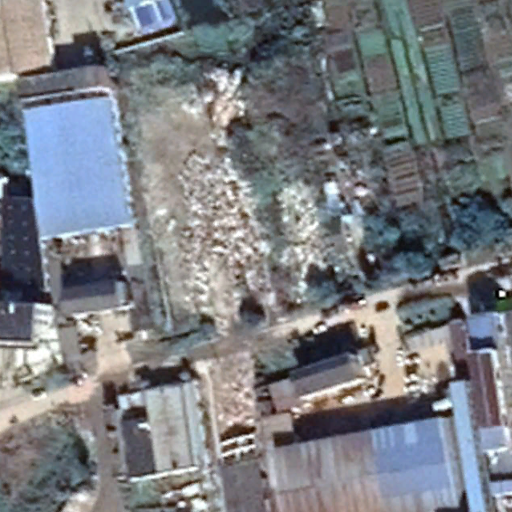msw: (170, 65, 323, 336)
